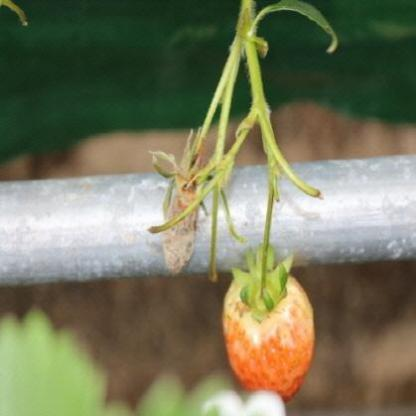Strawberry_Gray_Mold: (164, 140, 204, 272)
